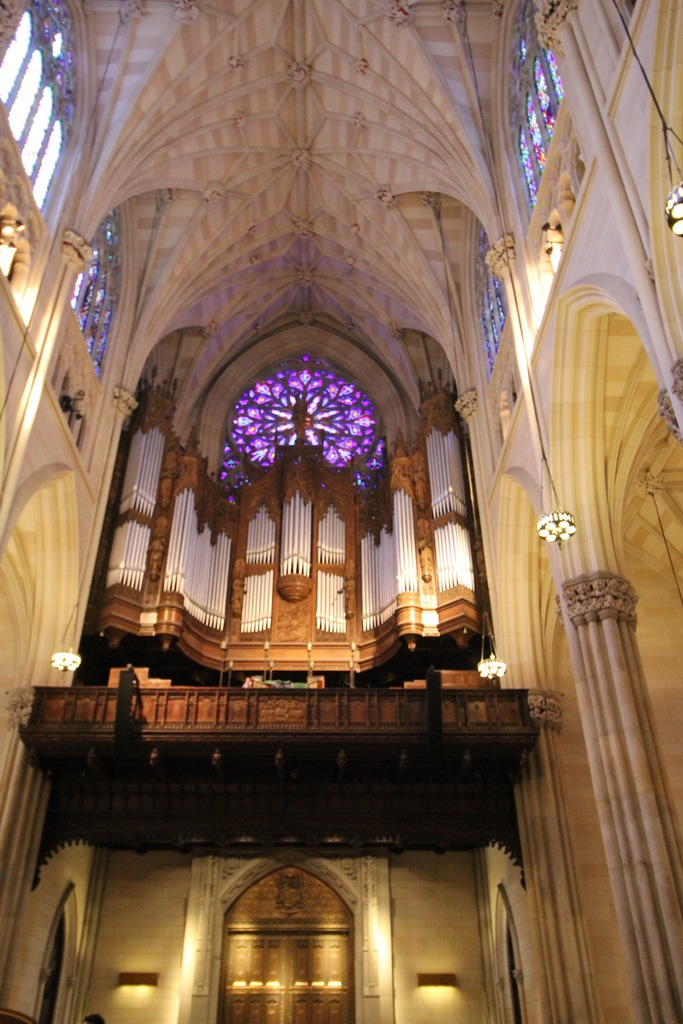Door: (179, 846, 385, 1018)
